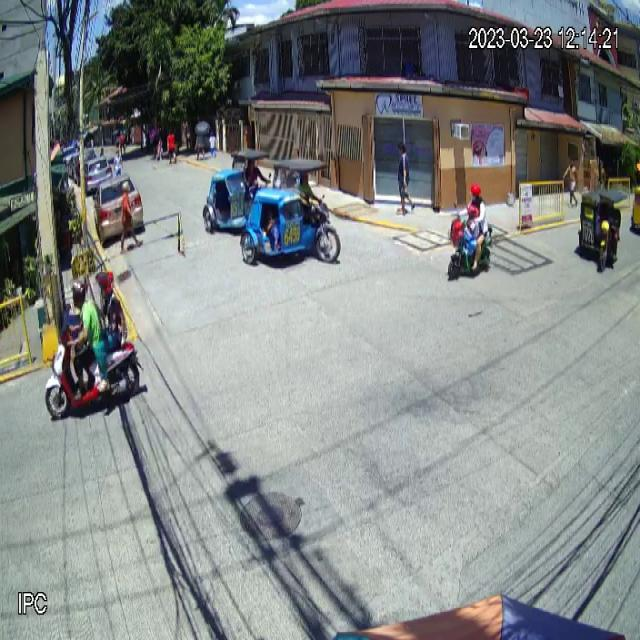Motorcycle: (44, 322, 144, 419)
Tricycle: (240, 156, 342, 265), (578, 187, 627, 272)
